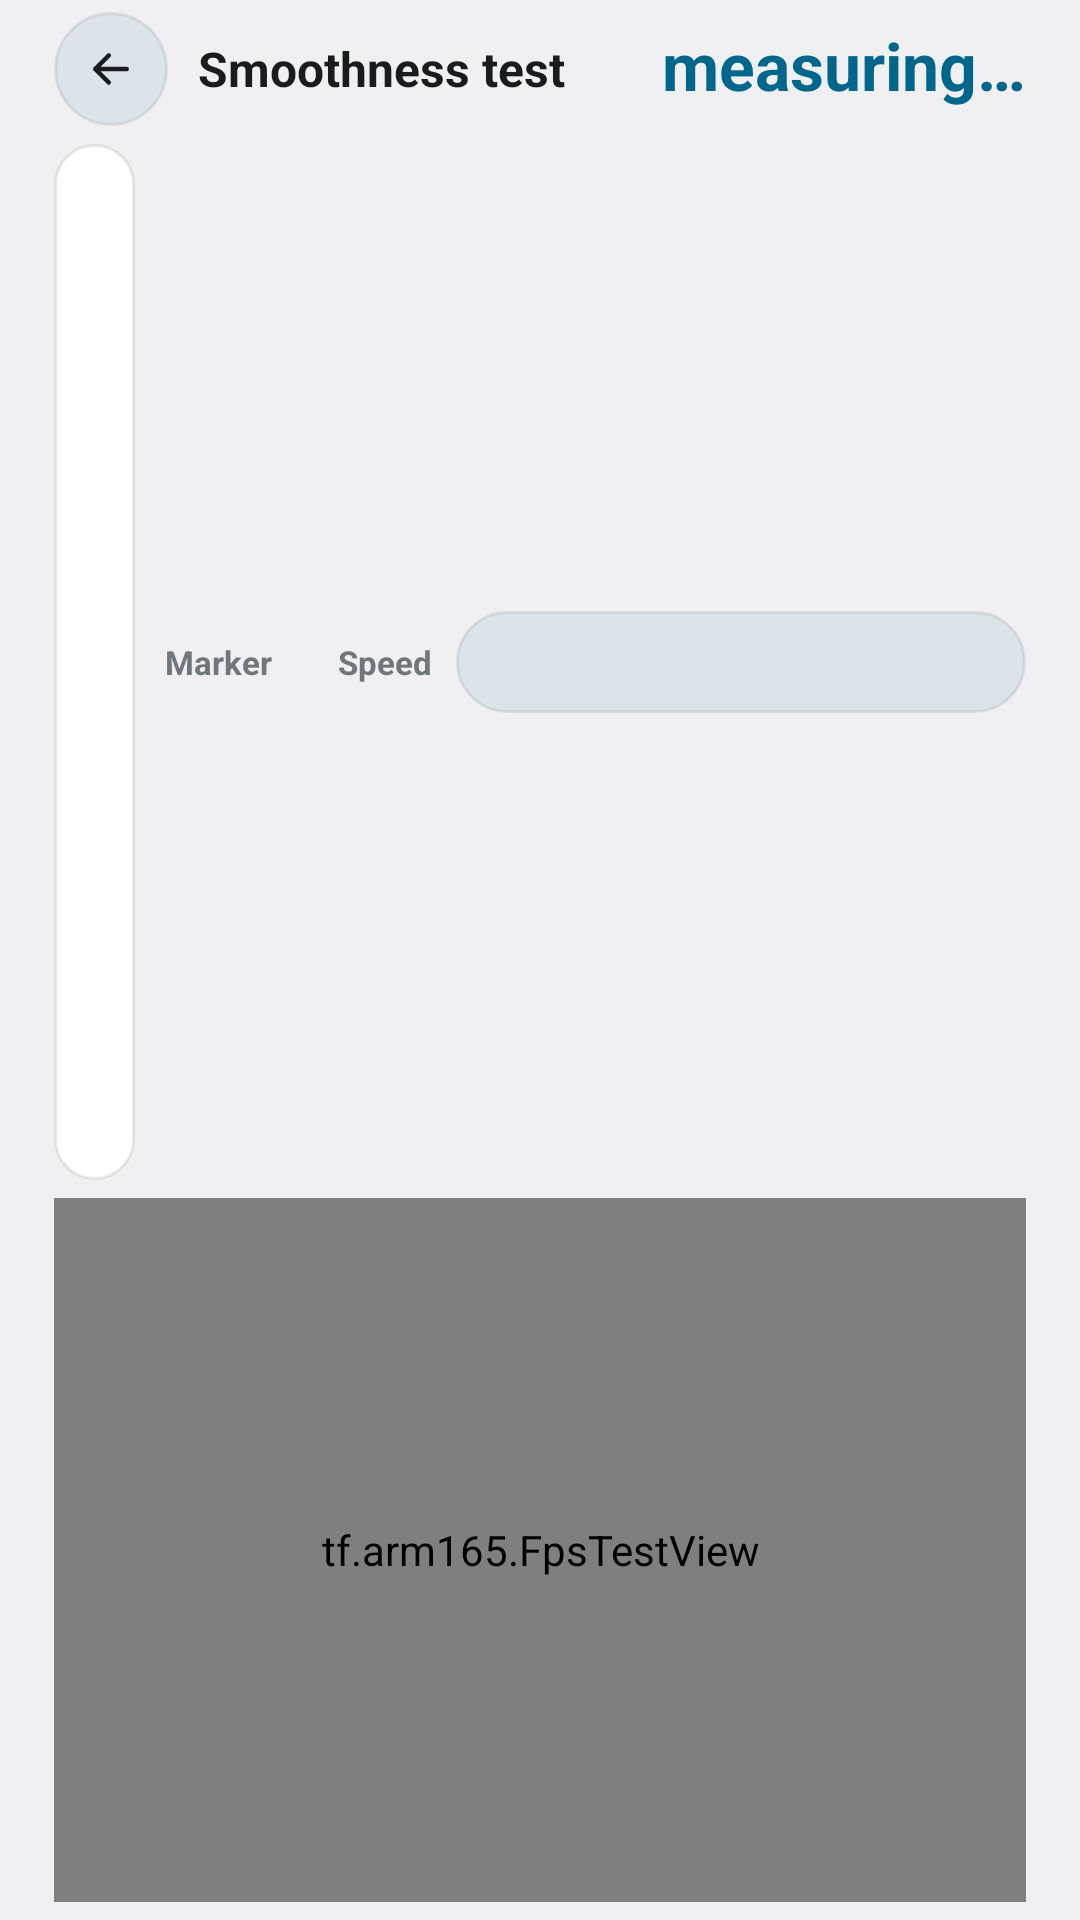

Screen size 1080×1920. Icon name, then its center in pixels as [x,y]:
Back: [111,69]
